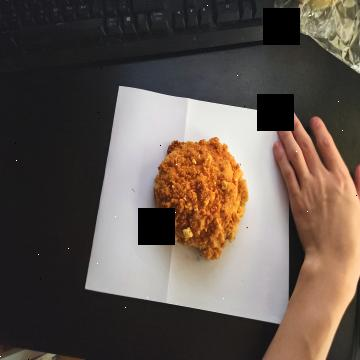soboru_bread: (148, 134, 249, 267)
